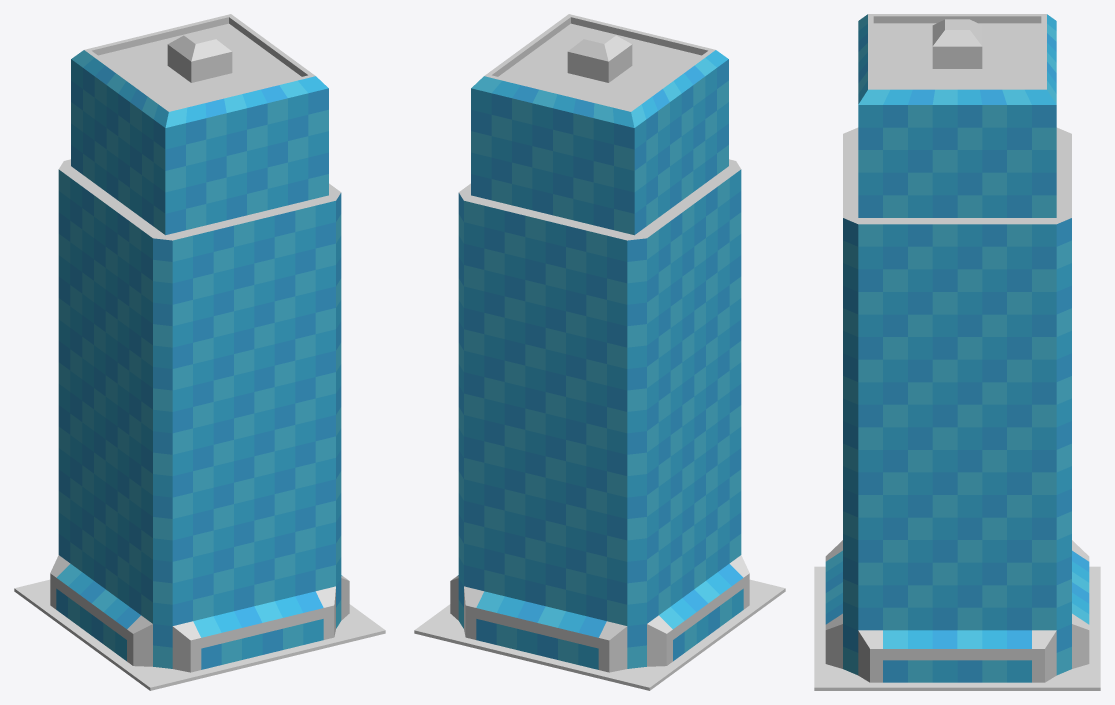
The model's file is Chroma Skyscraper C.fbx.
3 views of the same model, side by side, from view 1: azimuth 30°, elevation 25°; view 2: azimuth 150°, elevation 25°; view 3: azimuth 270°, elevation 25° (orthographic). The views are drawn at different scales.
Visible parts, largest first — view 1: Skyscraper, Skyscraper Base; view 2: Skyscraper, Skyscraper Base; view 3: Skyscraper, Skyscraper Base.
Part boxes in pixels (<box>): Skyscraper: <box>50,14,349,672</box>; Skyscraper Base: <box>14,579,385,690</box>; Skyscraper: <box>450,14,749,672</box>; Skyscraper Base: <box>414,579,785,690</box>; Skyscraper: <box>825,14,1089,682</box>; Skyscraper Base: <box>814,566,1100,690</box>.
Bounding box in the file's own units: 1150 × 2685 × 1150.
